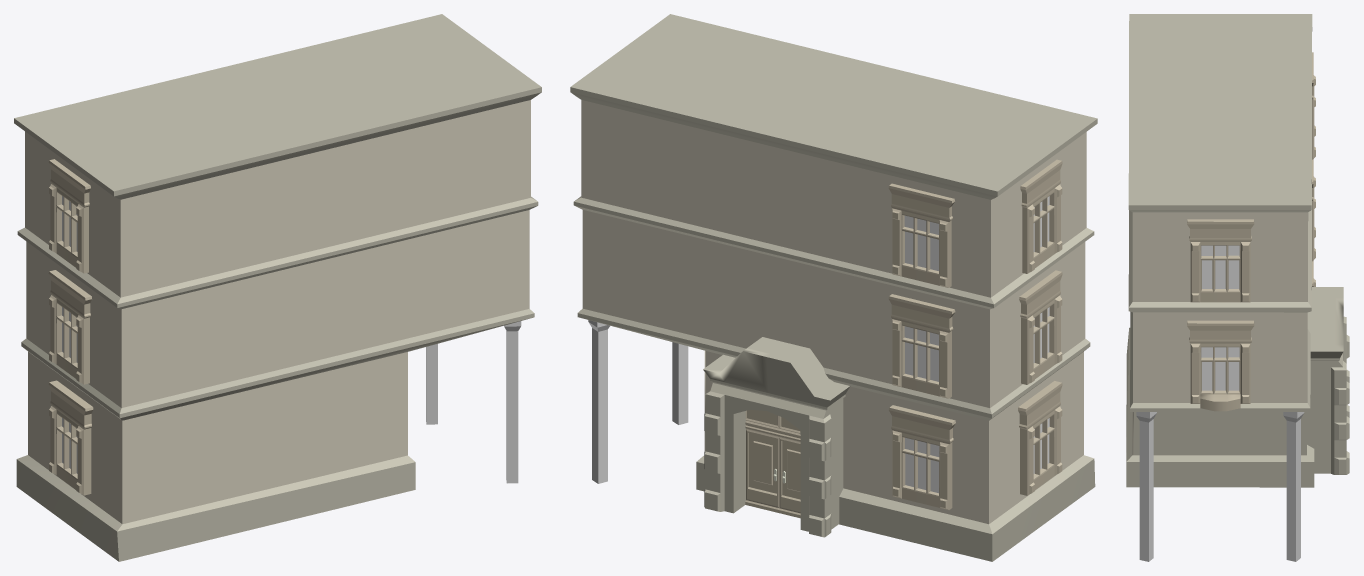
The model's file is jemoeder_model.fbx.
3 renders of one model, left to right at view 1: azimuth 30°, elevation 25°; view 2: azimuth 150°, elevation 25°; view 3: azimuth 270°, elevation 25°, orthographic. The views are drawn at different scales.
Visible parts, largest first — view 1: AppartmentRichColoursA, Cube.001, Cube; view 2: AppartmentRichColoursA, Cube, Cube.001; view 3: AppartmentRichColoursA, Cube, Cube.001.
Boxes of the visible parts, x1,y1,x2,y2 form: AppartmentRichColoursA: (14, 14, 541, 561); Cube.001: (504, 321, 521, 483); Cube: (426, 343, 437, 424); AppartmentRichColoursA: (570, 14, 1097, 561); Cube: (588, 320, 609, 483); Cube.001: (672, 342, 688, 424); AppartmentRichColoursA: (1126, 14, 1349, 487); Cube: (1283, 412, 1304, 561); Cube.001: (1136, 412, 1156, 561).
Bounding box in the file's own units: 1828 × 1573 × 878.
